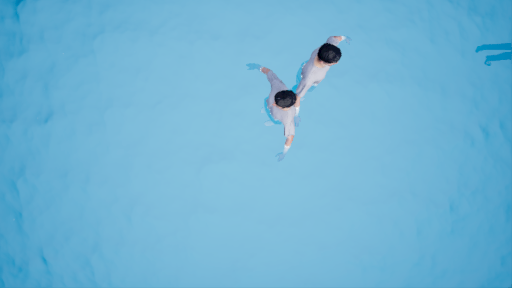person: (280, 34, 349, 127), (244, 69, 301, 157)
